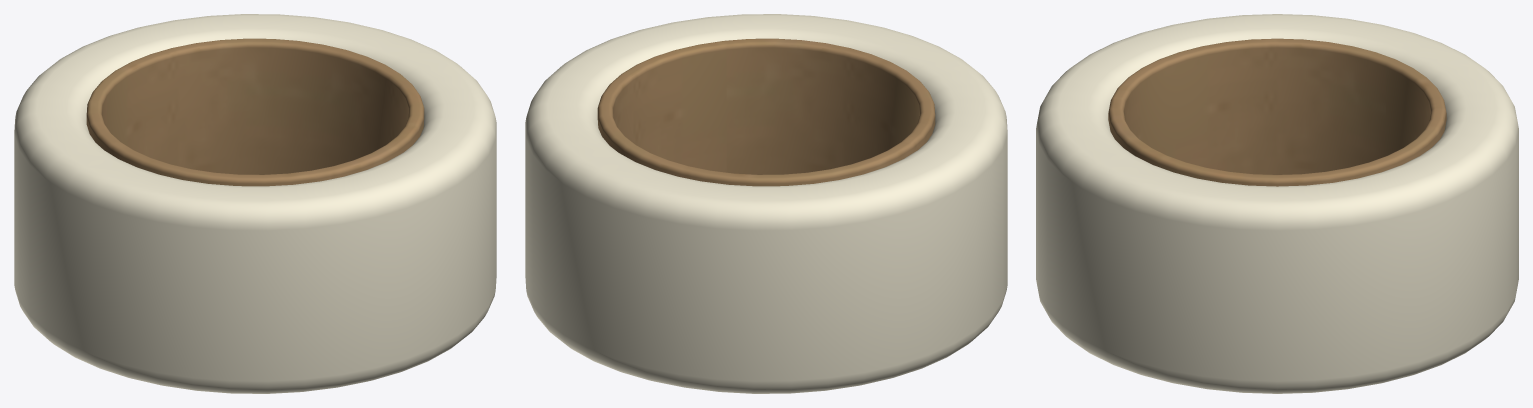
Rendered from PIN-FER-007.glb.
3 renders of one model, left to right at view 1: azimuth 30°, elevation 25°; view 2: azimuth 150°, elevation 25°; view 3: azimuth 270°, elevation 25°, orthographic.
Parts seen in each view (by area): view 1: PIN-FER-007_fita, PIN-FER-007_tubete; view 2: PIN-FER-007_fita, PIN-FER-007_tubete; view 3: PIN-FER-007_fita, PIN-FER-007_tubete.
Part boxes in pixels (x1,y1,x2,y2): PIN-FER-007_fita: [14, 14, 496, 393]; PIN-FER-007_tubete: [86, 38, 424, 186]; PIN-FER-007_fita: [525, 14, 1007, 393]; PIN-FER-007_tubete: [597, 38, 935, 186]; PIN-FER-007_fita: [1036, 14, 1518, 393]; PIN-FER-007_tubete: [1108, 38, 1446, 186].
Bounding box in the file's own units: 0.11 × 0.048 × 0.11.
Materials: 2 (1 with a texture image).
